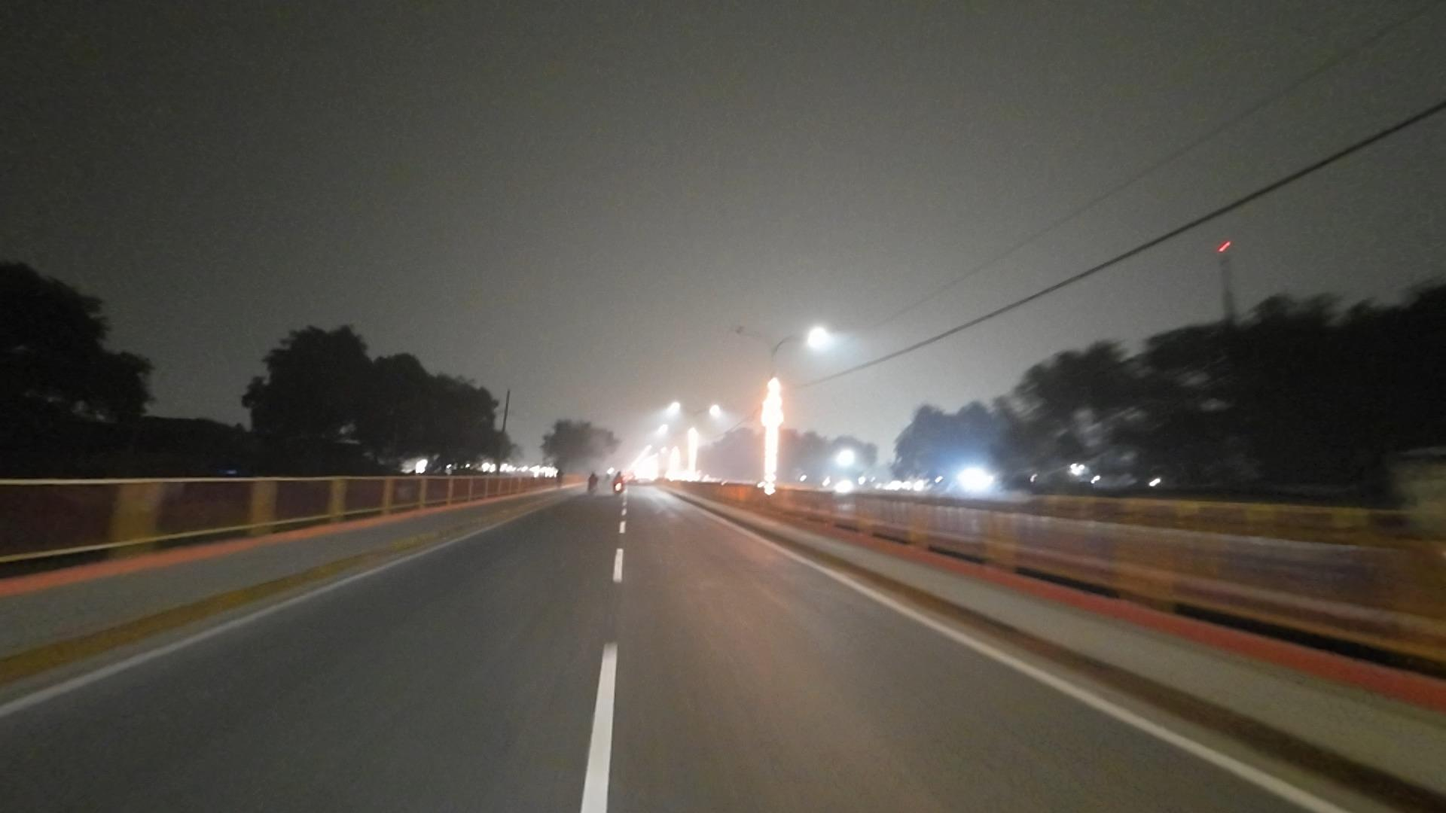streetlight: (727, 324, 767, 340)
